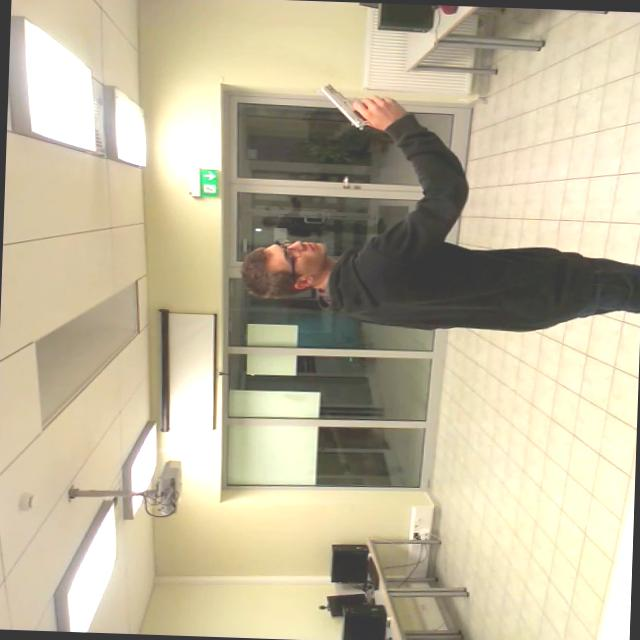handgun: (312, 80, 384, 130)
